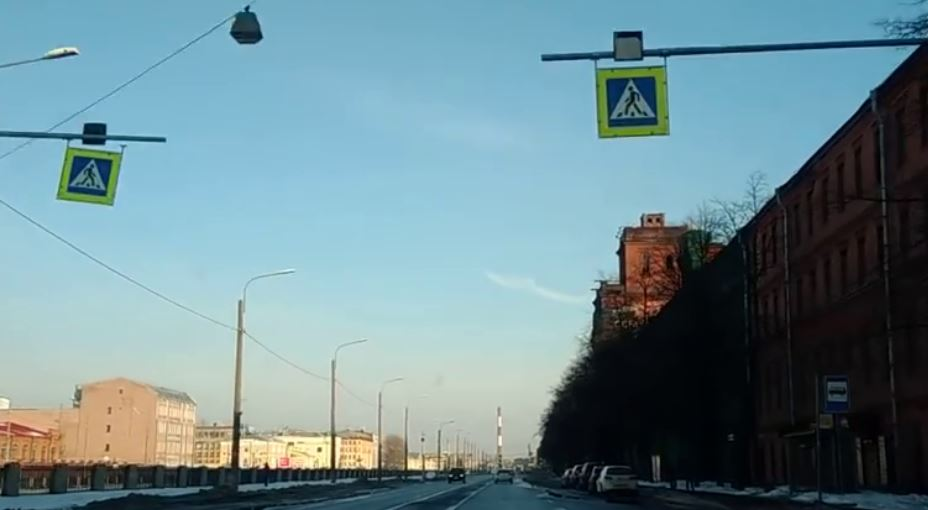Yaya Gecidi: (609, 76, 658, 122), (71, 154, 112, 193)
